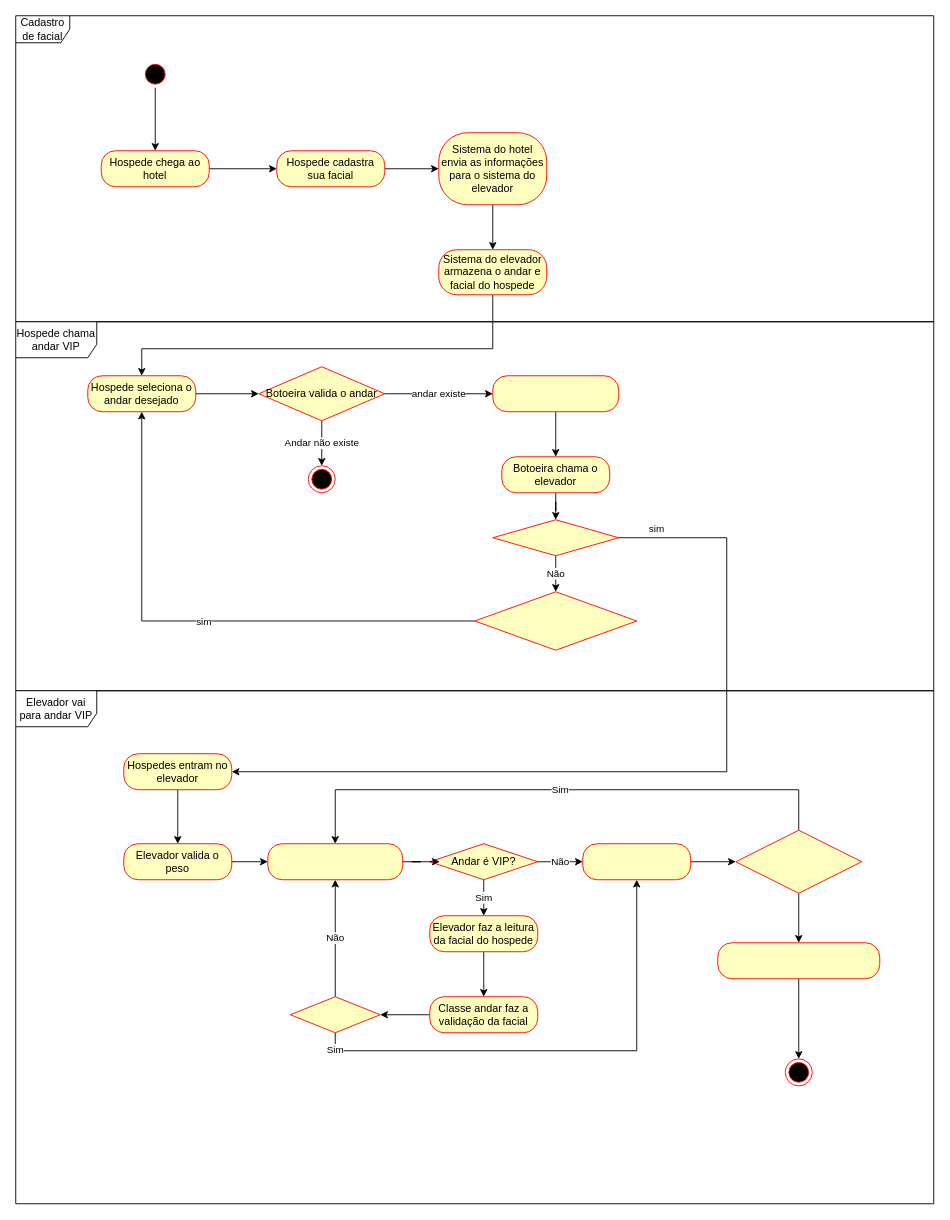
Some shapes in this 950 by 1220 pixel diagram are drawn without their labels. The box of each missing label's shape, as (x1, y1, x2, y2) in pixels:
Botoeira busca o elevador mais próximo: (492, 375, 619, 412)
Elevador abre as portas: (582, 843, 691, 880)
Elevador chegou: (492, 519, 619, 556)
Elevador permanece parado e aberto até ser chamado novamente: (717, 942, 880, 979)
Elevador vai para o próximo andar selecionado: (267, 843, 403, 880)
Facial valida: (289, 996, 380, 1033)
Mais algum hospede quer selecionar andar: (474, 591, 637, 650)
Tem mais algum andar selecionado: (735, 829, 862, 893)
